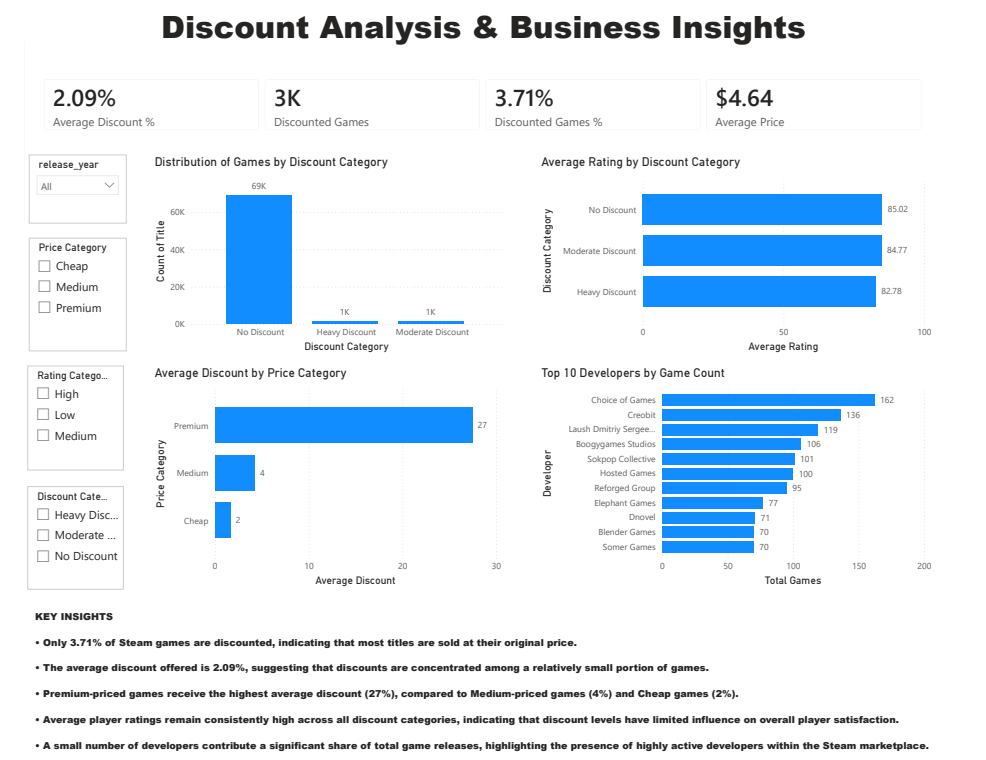

The dashboard page shown, as its layout file describes it:
{"tool":"powerbi","page":{"name":"Discount Analysis & Business Insights","canvas":[1280,1100],"ordinal":2},"visuals":[{"type":"textbox","box":[10,15,1256.7,81.7],"z":0},{"type":"cardVisual","fields":{"Data":["All_measures.Average Discount %","All_measures.Discounted Games","All_measures.Discounted Games %","All_measures.Average Price"]},"box":[10,108.3,1256.7,105],"z":1},{"type":"clusteredColumnChart","title":"Distribution of Games by Discount Category","fields":{"Category":["game_cleaned.Discount Category"],"Y":["CountNonNull(game_cleaned.Title)"]},"box":[176,230,492,280],"z":2},{"type":"clusteredBarChart","fields":{"Category":["game_cleaned.Price Category"],"Y":["All_measures.Average Discount"]},"box":[176,524,492,312],"z":3},{"type":"clusteredBarChart","title":"Average Rating by Discount Category","fields":{"Y":["All_measures.Average Rating"],"Category":["game_cleaned.Discount Category"]},"box":[714,230,552,280],"z":4},{"type":"clusteredBarChart","title":"Top 10 Developers by Game Count","fields":{"Category":["game_cleaned.Developer"],"Y":["All_measures.Total Games"]},"box":[714,524,552,312],"z":5},{"type":"slicer","fields":{"Values":["game_cleaned.release_year"]},"box":[6,230,136,96],"z":6},{"type":"slicer","fields":{"Values":["game_cleaned.Price Category"]},"box":[6,346,136,158],"z":7},{"type":"slicer","fields":{"Values":["game_cleaned.Rating Category"]},"box":[4,524,134,146],"z":8},{"type":"slicer","fields":{"Values":["game_cleaned.Discount Category"]},"box":[4,692,134,144],"z":9},{"type":"textbox","box":[10,858,1258,220],"z":10}]}

Visuals, with their boxes on the page's 1280x1100 design canvas (x1, y1, x2, y2). These are canvas units, not pixel positions in the 986x760 screenshot, which may show the page scaled, cropped or inside an application window:
textbox: [x1=10, y1=15, x2=1267, y2=97]
cardVisual - All_measures.Average Discount % x All_measures.Discounted Games: [x1=10, y1=108, x2=1267, y2=213]
"Distribution of Games by Discount Category" clusteredColumnChart: [x1=176, y1=230, x2=668, y2=510]
clusteredBarChart - game_cleaned.Price Category x All_measures.Average Discount: [x1=176, y1=524, x2=668, y2=836]
"Average Rating by Discount Category" clusteredBarChart: [x1=714, y1=230, x2=1266, y2=510]
"Top 10 Developers by Game Count" clusteredBarChart: [x1=714, y1=524, x2=1266, y2=836]
slicer - game_cleaned.release_year: [x1=6, y1=230, x2=142, y2=326]
slicer - game_cleaned.Price Category: [x1=6, y1=346, x2=142, y2=504]
slicer - game_cleaned.Rating Category: [x1=4, y1=524, x2=138, y2=670]
slicer - game_cleaned.Discount Category: [x1=4, y1=692, x2=138, y2=836]
textbox: [x1=10, y1=858, x2=1268, y2=1078]
